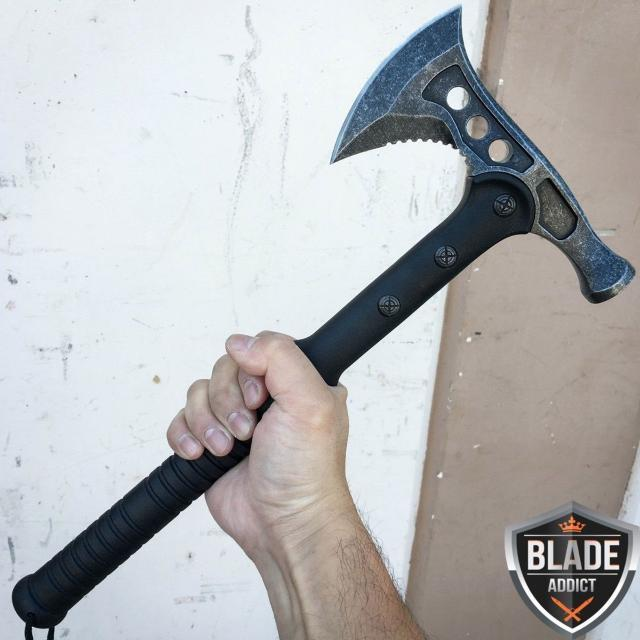axe: (4, 1, 639, 628)
